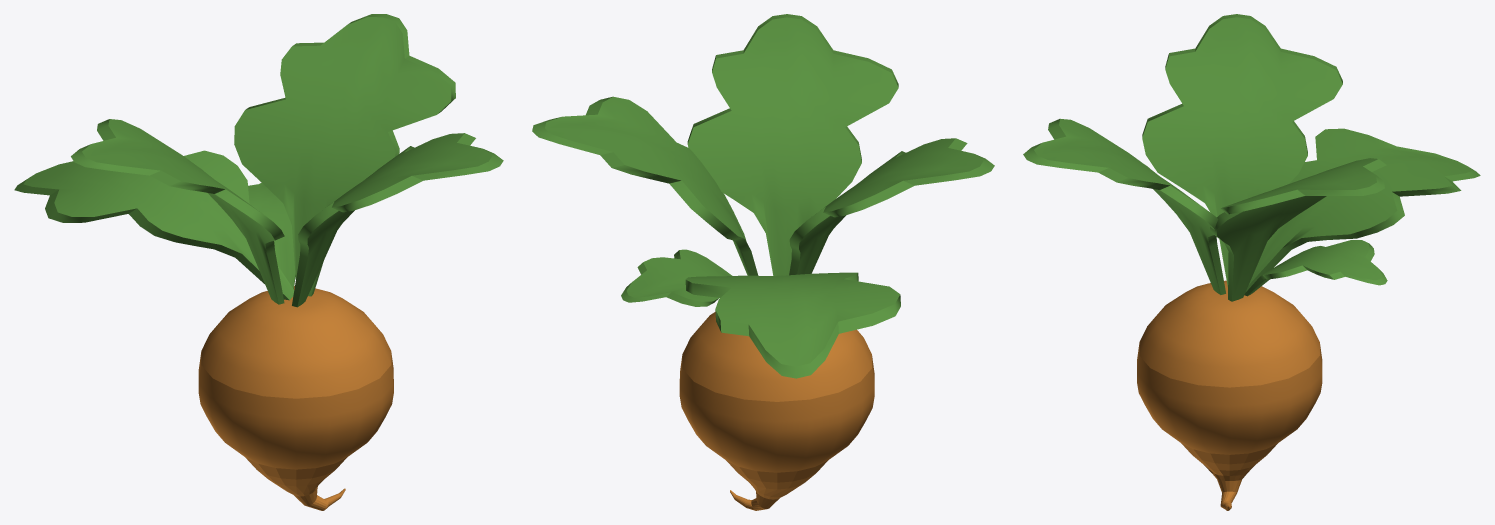
File: mesh_betterave.fbx
The picture shows the model from 3 angles, left to right: view 1: azimuth 30°, elevation 25°; view 2: azimuth 150°, elevation 25°; view 3: azimuth 270°, elevation 25°; orthographic projection. The views are drawn at different scales.
Parts seen in each view (by area): view 1: Betterave; view 2: Betterave; view 3: Betterave.
Boxes of the visible parts, left/top/right/bottom form: Betterave: left=14, top=14, right=503, bottom=510; Betterave: left=532, top=14, right=994, bottom=510; Betterave: left=1023, top=14, right=1480, bottom=510.
Size of the model in its own units: 26.98 by 26.64 by 28.75.
